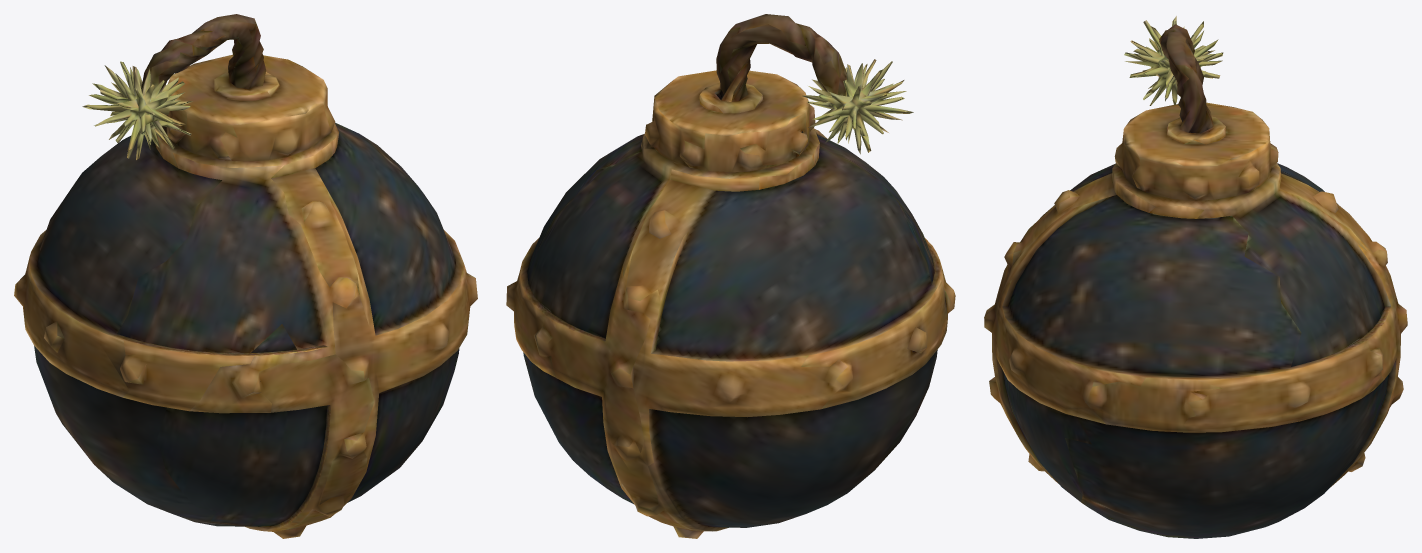
The model's file is cinder_weapon.glb.
3 views of the same model, side by side, from view 1: azimuth 30°, elevation 25°; view 2: azimuth 150°, elevation 25°; view 3: azimuth 270°, elevation 25° (orthographic). The views are drawn at different scales.
Size of the model in its own units: 0.8183 by 1 by 0.8192.
Materials: 1 (1 with a texture image).
